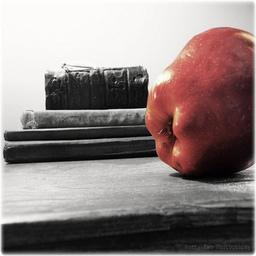apple: (145, 25, 254, 181)
